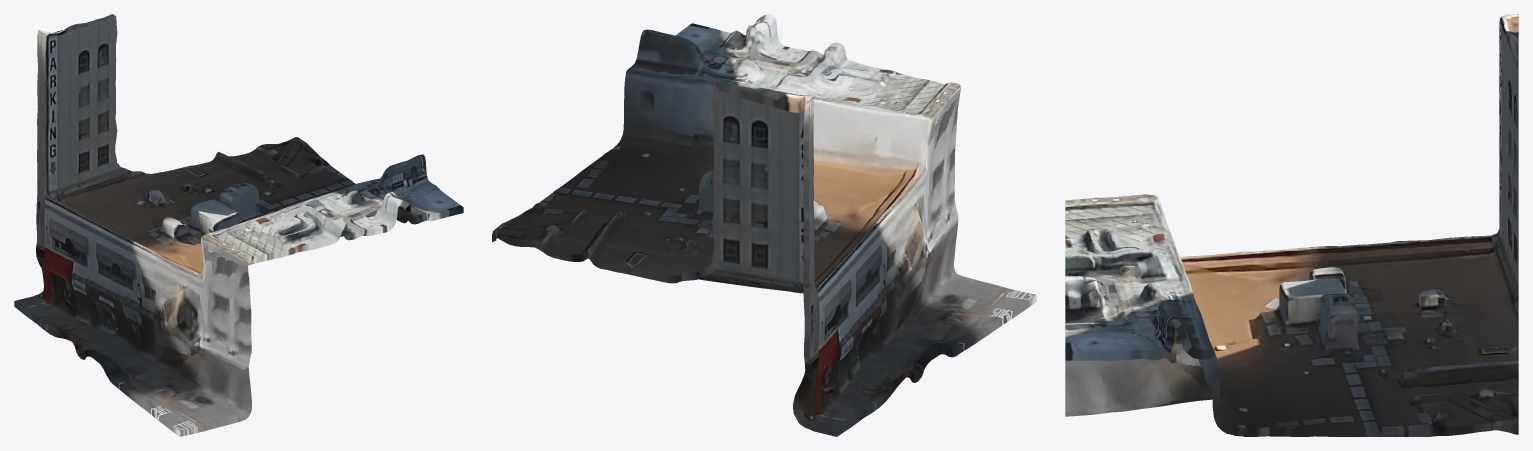
File: z20-167750-405242-h0-yup-uvflip-v3-world.glb
3 renders of one model, left to right at view 1: azimuth 30°, elevation 25°; view 2: azimuth 150°, elevation 25°; view 3: azimuth 270°, elevation 25°, orthographic. The views are drawn at different scales.
Size of the model in its own units: 30.16 by 28.48 by 30.32.
1 material, 1 textured.
